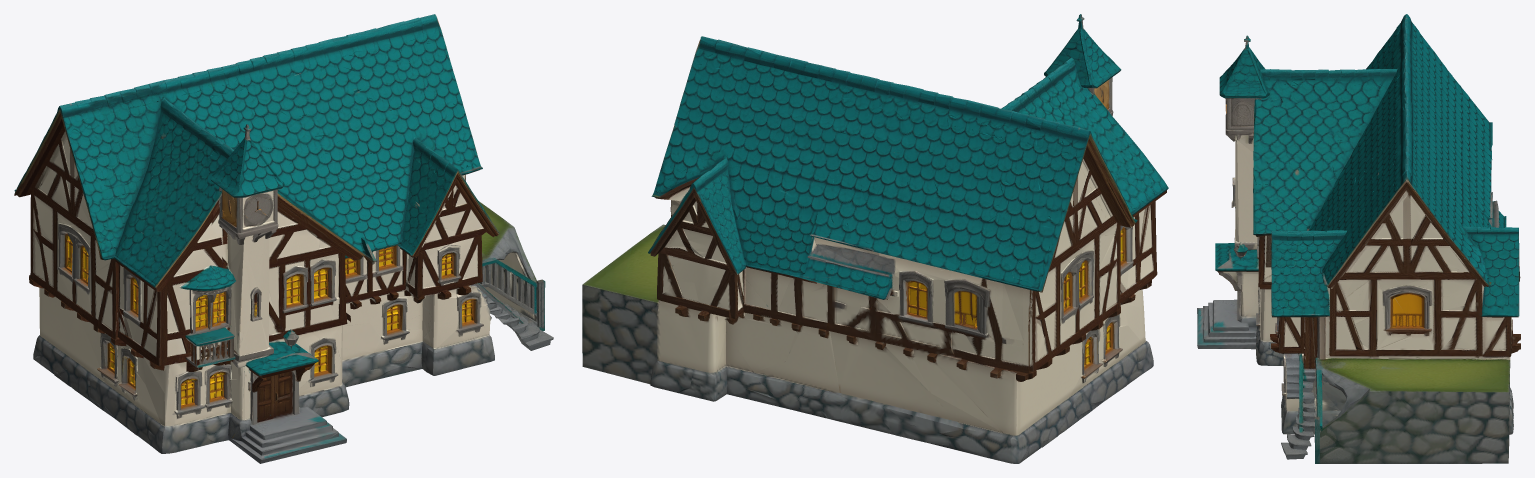
File: rathaus.glb
The picture shows the model from 3 angles, left to right: view 1: azimuth 30°, elevation 25°; view 2: azimuth 150°, elevation 25°; view 3: azimuth 270°, elevation 25°; orthographic projection. The views are drawn at different scales.
Bounding box in the file's own units: 1.9 × 1.32 × 1.38.
1 material, 1 textured.
